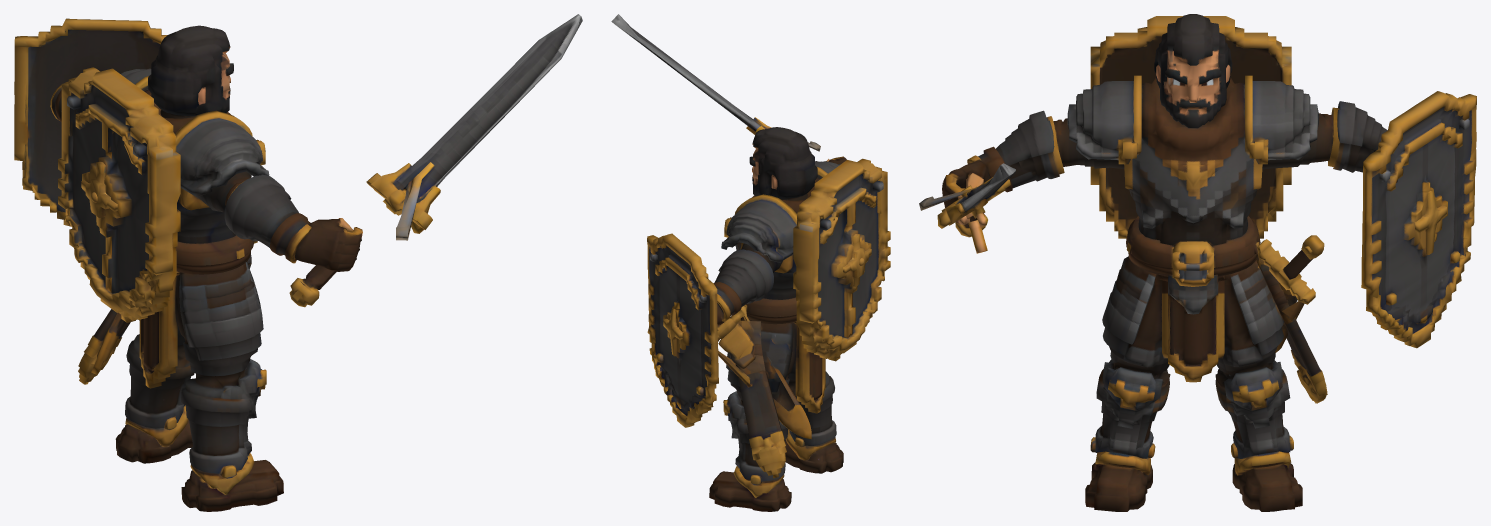
File: heroi.fbx
3 renders of one model, left to right at view 1: azimuth 30°, elevation 25°; view 2: azimuth 150°, elevation 25°; view 3: azimuth 270°, elevation 25°, orthographic. The views are drawn at different scales.
Parts seen in each view (by area): view 1: tripo_212742ae_c110_42d5_86b8_5e55cc69bbe6; view 2: tripo_212742ae_c110_42d5_86b8_5e55cc69bbe6; view 3: tripo_212742ae_c110_42d5_86b8_5e55cc69bbe6.
Boxes of the visible parts, <box> form: tripo_212742ae_c110_42d5_86b8_5e55cc69bbe6: <box>14,14,582,511</box>; tripo_212742ae_c110_42d5_86b8_5e55cc69bbe6: <box>611,14,890,511</box>; tripo_212742ae_c110_42d5_86b8_5e55cc69bbe6: <box>919,14,1476,511</box>.
Size of the model in its own units: 0.8892 by 0.9497 by 0.9995.
Materials: 1 (1 with a texture image).
